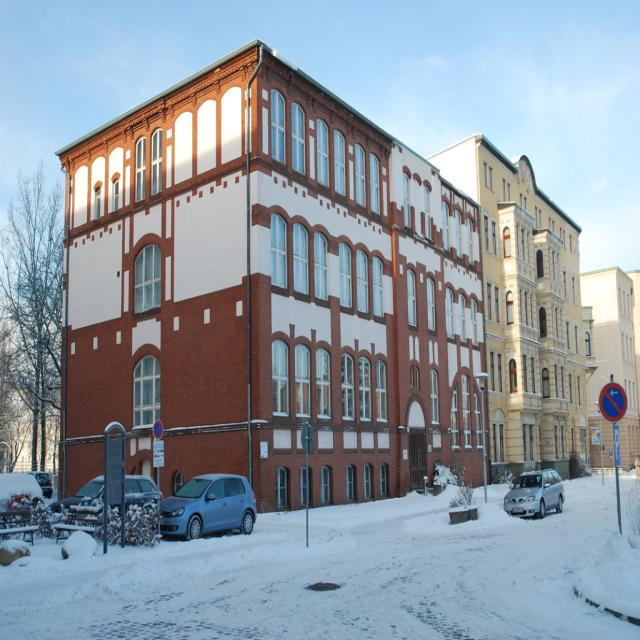car: (153, 468, 257, 544), (501, 471, 570, 522)
